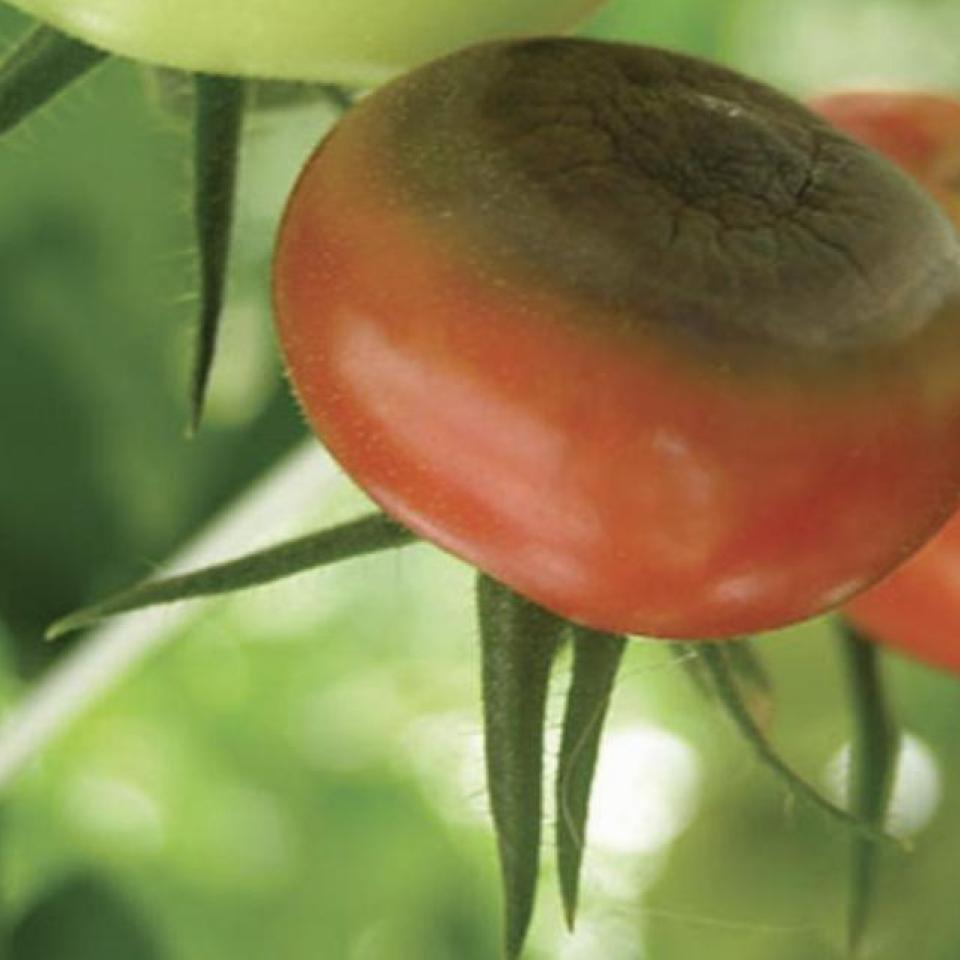Blossom_end_rot: (376, 32, 960, 386)
